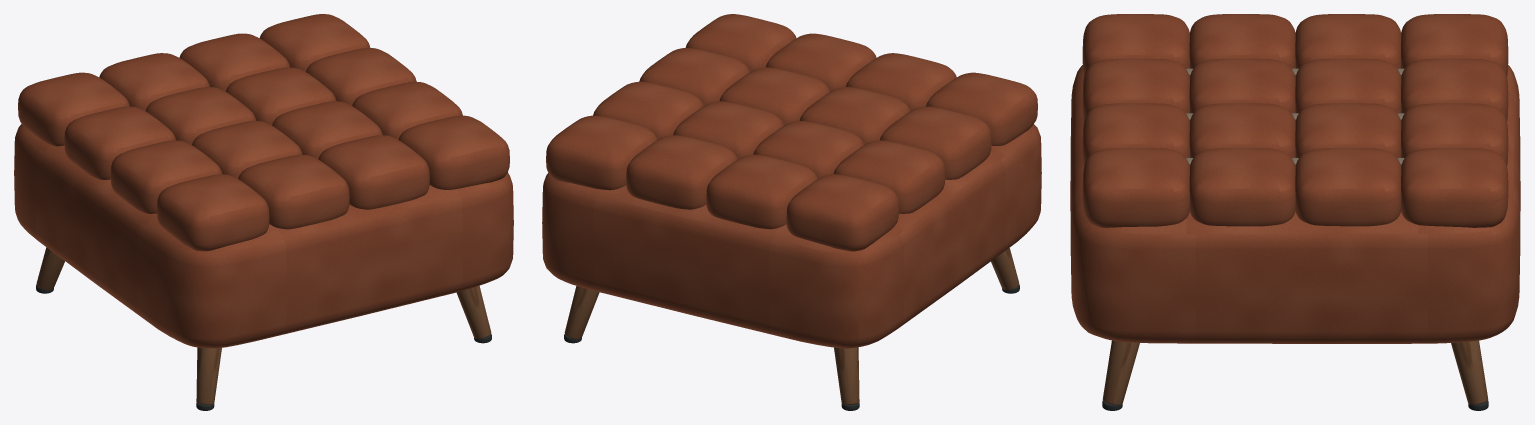
3 renders of one model, left to right at view 1: azimuth 30°, elevation 25°; view 2: azimuth 150°, elevation 25°; view 3: azimuth 270°, elevation 25°, orthographic. The views are drawn at different scales.
Visible parts, largest first — view 1: Leather | deep square base, Leather | quilted tuft cell, Leather | quilted tuft cell.012, Leather | quilted tuft cell.004, Leather | quilted tuft cell.008, Leather | quilted tuft cell.003, Leather | quilted tuft cell.001, Leather | quilted tuft cell.002, Leather | quilted tuft cell.009, Leather | quilted tuft cell.013, Leather | quilted tuft cell.010, Leather | quilted tuft cell.006 (+8 smaller); view 2: Leather | deep square base, Leather | quilted tuft cell.003, Leather | quilted tuft cell.015, Leather | quilted tuft cell.011, Leather | quilted tuft cell.007, Leather | quilted tuft cell, Leather | quilted tuft cell.001, Leather | quilted tuft cell.002, Leather | quilted tuft cell.008, Leather | quilted tuft cell.005, Leather | quilted tuft cell.009, Leather | quilted tuft cell.012 (+8 smaller); view 3: Leather | deep square base, Leather | quilted tuft cell.015, Leather | quilted tuft cell.012, Leather | quilted tuft cell.013, Leather | quilted tuft cell.014, Leather | quilted tuft cell.007, Leather | quilted tuft cell.004, Leather | quilted tuft cell.008, Leather | quilted tuft cell.011, Leather | quilted tuft cell.003, Leather | quilted tuft cell, Leather | quilted tuft cell.005 (+7 smaller).
Boxes of the visible parts, left/top/right/bottom form: Leather | deep square base: left=14, top=124, right=513, bottom=348; Leather | quilted tuft cell: left=156, top=174, right=269, bottom=251; Leather | quilted tuft cell.012: left=398, top=115, right=509, bottom=189; Leather | quilted tuft cell.004: left=238, top=154, right=349, bottom=229; Leather | quilted tuft cell.008: left=318, top=135, right=429, bottom=209; Leather | quilted tuft cell.003: left=18, top=72, right=129, bottom=146; Leather | quilted tuft cell.001: left=110, top=140, right=222, bottom=213; Leather | quilted tuft cell.002: left=64, top=106, right=175, bottom=179; Leather | quilted tuft cell.009: left=272, top=101, right=382, bottom=158; Leather | quilted tuft cell.013: left=352, top=81, right=462, bottom=139; Leather | quilted tuft cell.010: left=225, top=67, right=336, bottom=125; Leather | quilted tuft cell.006: left=146, top=87, right=256, bottom=144; Leather | deep square base: left=542, top=124, right=1041, bottom=348; Leather | quilted tuft cell.003: left=786, top=174, right=899, bottom=251; Leather | quilted tuft cell.015: left=546, top=115, right=657, bottom=190; Leather | quilted tuft cell.011: left=626, top=135, right=737, bottom=209; Leather | quilted tuft cell.007: left=706, top=154, right=817, bottom=229; Leather | quilted tuft cell: left=926, top=72, right=1037, bottom=145; Leather | quilted tuft cell.001: left=880, top=106, right=991, bottom=179; Leather | quilted tuft cell.002: left=833, top=140, right=945, bottom=213; Leather | quilted tuft cell.008: left=766, top=33, right=876, bottom=91; Leather | quilted tuft cell.005: left=799, top=87, right=910, bottom=144; Leather | quilted tuft cell.009: left=719, top=67, right=830, bottom=125; Leather | quilted tuft cell.012: left=685, top=14, right=796, bottom=71; Leather | deep square base: left=1070, top=65, right=1520, bottom=343; Leather | quilted tuft cell.015: left=1401, top=148, right=1508, bottom=227; Leather | quilted tuft cell.012: left=1082, top=148, right=1189, bottom=227; Leather | quilted tuft cell.013: left=1189, top=148, right=1295, bottom=226; Leather | quilted tuft cell.014: left=1295, top=148, right=1401, bottom=226; Leather | quilted tuft cell.007: left=1401, top=58, right=1508, bottom=121; Leather | quilted tuft cell.004: left=1082, top=58, right=1189, bottom=121; Leather | quilted tuft cell.008: left=1082, top=103, right=1189, bottom=166; Leather | quilted tuft cell.011: left=1401, top=103, right=1508, bottom=166; Leather | quilted tuft cell.003: left=1401, top=14, right=1508, bottom=76; Leather | quilted tuft cell: left=1082, top=14, right=1189, bottom=76; Leather | quilted tuft cell.005: left=1189, top=58, right=1295, bottom=113.
Size of the model in its own units: 0.882 by 0.5095 by 0.882.
4 materials, 2 textured.
